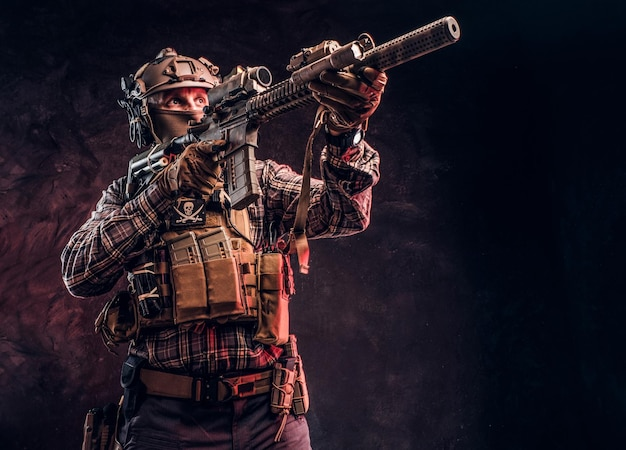gun: (129, 15, 461, 213)
